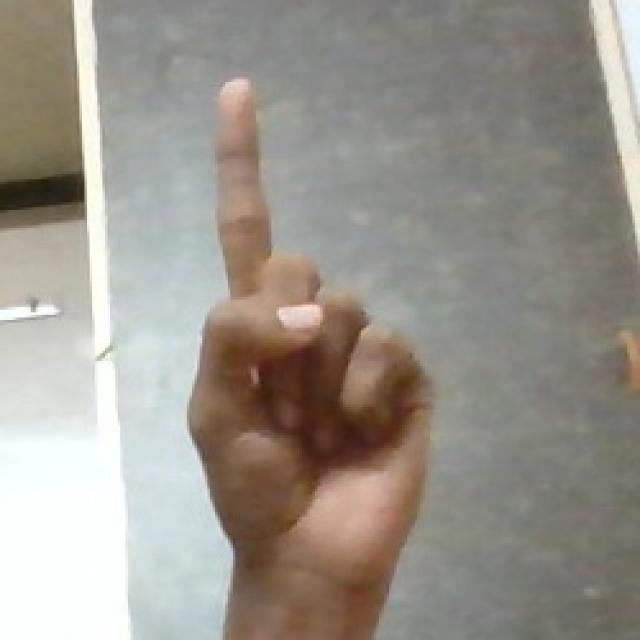Numeric-1: (181, 74, 439, 638)
